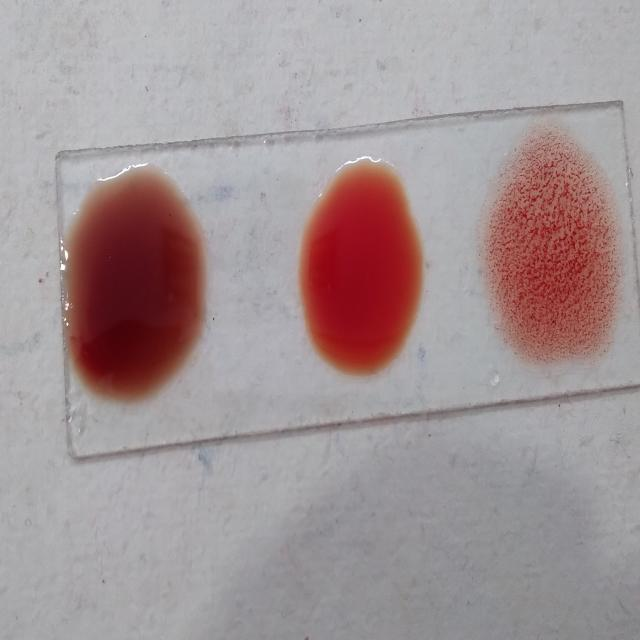D: (482, 137, 620, 359)
